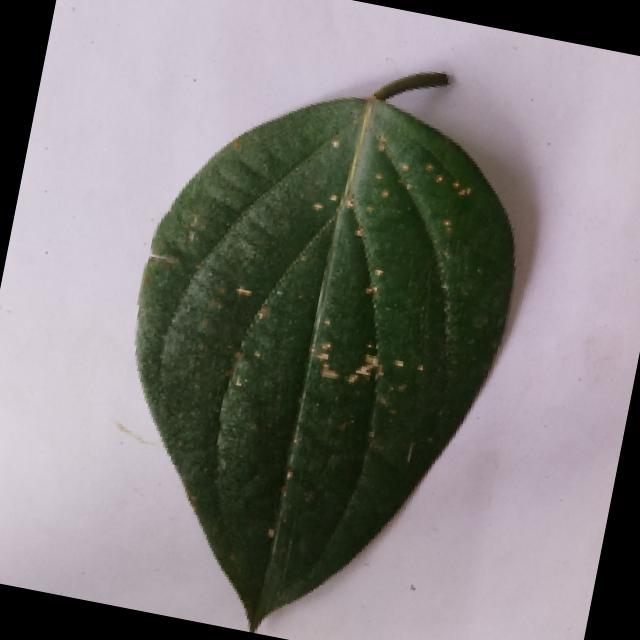pollu-disease: (82, 33, 555, 640)
